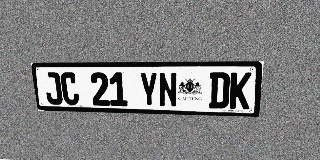1: (108, 72, 128, 106)
2: (90, 72, 110, 106)
C: (60, 72, 80, 105)
D: (209, 72, 230, 109)
J: (43, 72, 63, 105)
K: (229, 72, 252, 109)
N: (158, 72, 177, 107)
Y: (139, 72, 158, 107)
